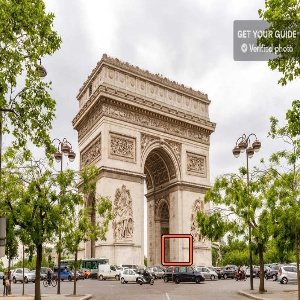square: (160, 232, 195, 268)
